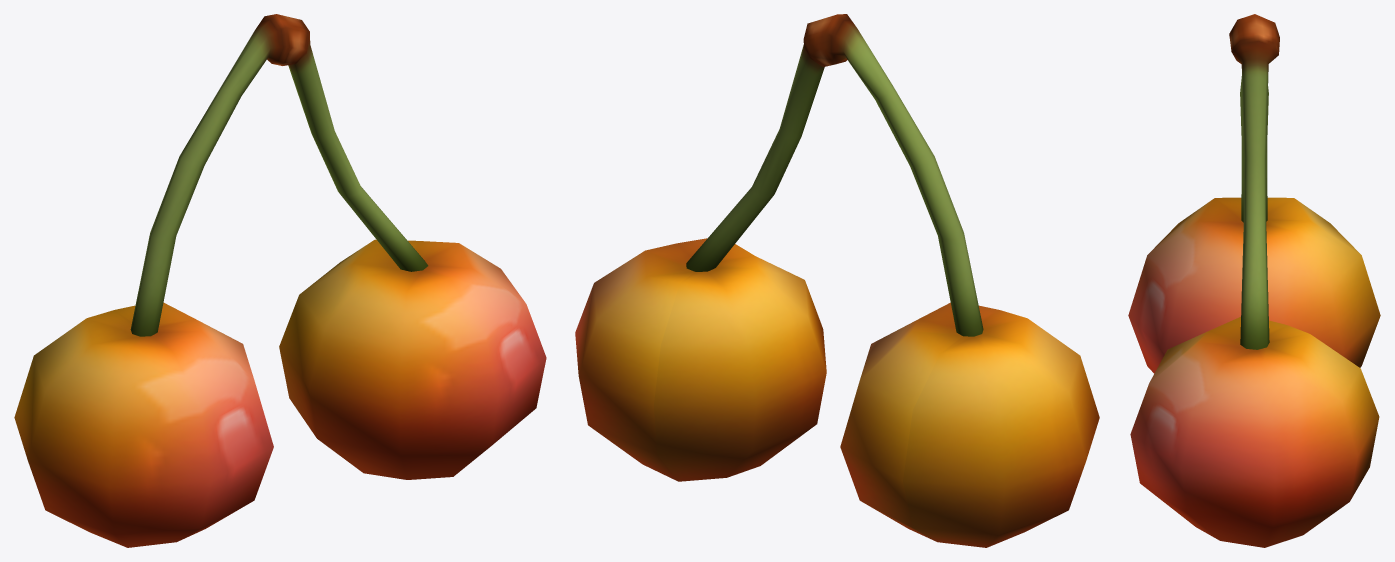
The model's file is Cherry_Yellow.fbx.
3 renders of one model, left to right at view 1: azimuth 30°, elevation 25°; view 2: azimuth 150°, elevation 25°; view 3: azimuth 270°, elevation 25°, orthographic. The views are drawn at different scales.
Visible parts, largest first — view 1: Cherry_Yellow; view 2: Cherry_Yellow; view 3: Cherry_Yellow.
Boxes of the visible parts, x1,y1,x2,y2 form: Cherry_Yellow: [14, 14, 546, 547]; Cherry_Yellow: [575, 14, 1099, 547]; Cherry_Yellow: [1128, 14, 1380, 547].
Bounding box in the file's own units: 29.51 × 26.82 × 13.74.
